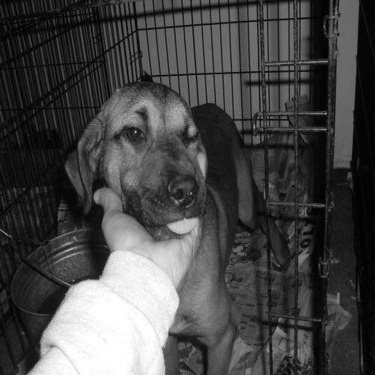dog: (57, 65, 292, 373)
